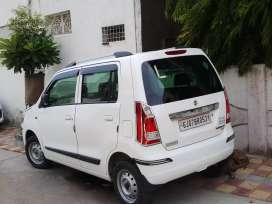nameplate: (178, 108, 217, 130)
